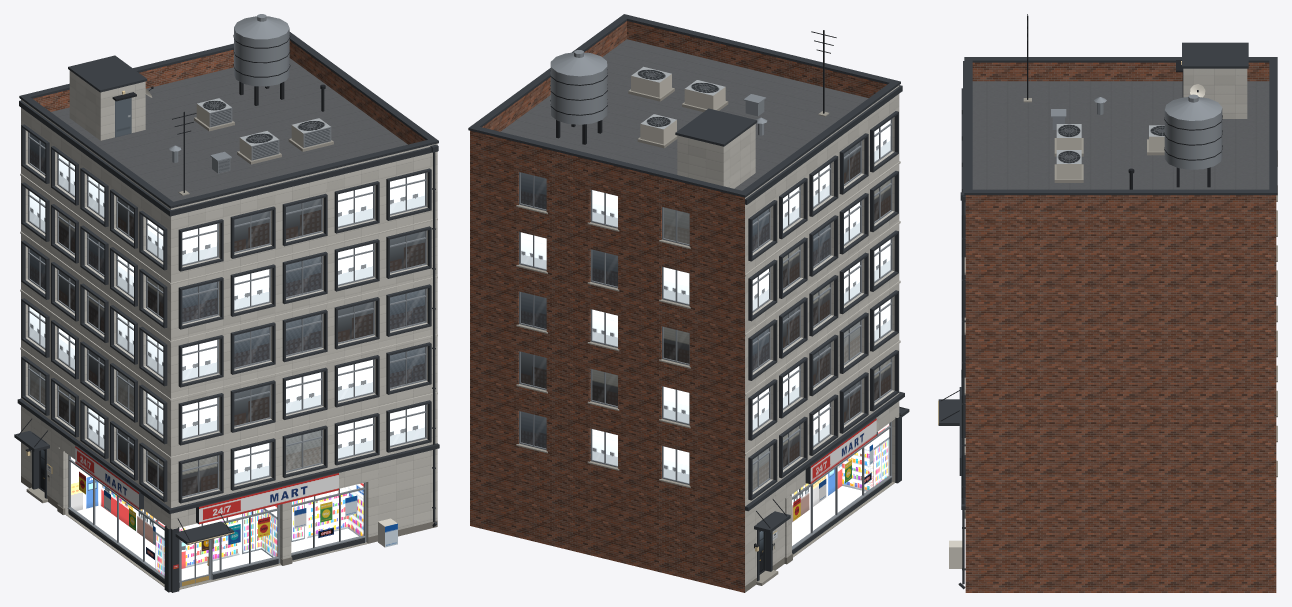
The model's file is CornerMart.fbx.
The picture shows the model from 3 angles, left to right: view 1: azimuth 30°, elevation 25°; view 2: azimuth 150°, elevation 25°; view 3: azimuth 270°, elevation 25°; orthographic projection. The views are drawn at different scales.
Visible parts, largest first — view 1: CornerMart_Mesh; view 2: CornerMart_Mesh; view 3: CornerMart_Mesh.
Part boxes in pixels (box(x1,y1,x2,y2)): CornerMart_Mesh: box(14, 14, 439, 592); CornerMart_Mesh: box(468, 14, 909, 592); CornerMart_Mesh: box(938, 14, 1277, 592).
Size of the model in its own units: 16.36 by 24.7 by 16.4.
